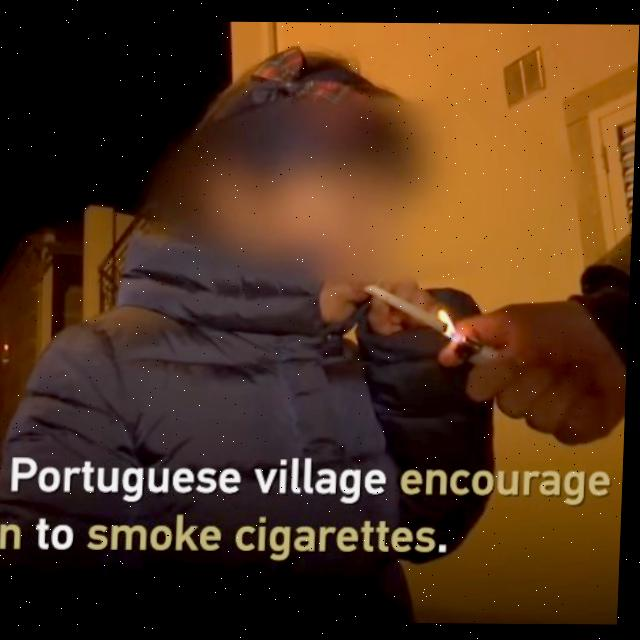cigarette: (364, 285, 452, 334)
